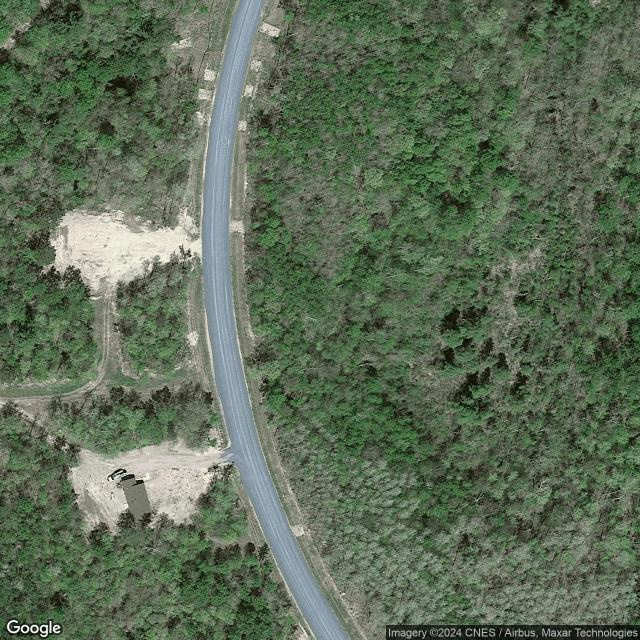Propane: (109, 491, 116, 501)
